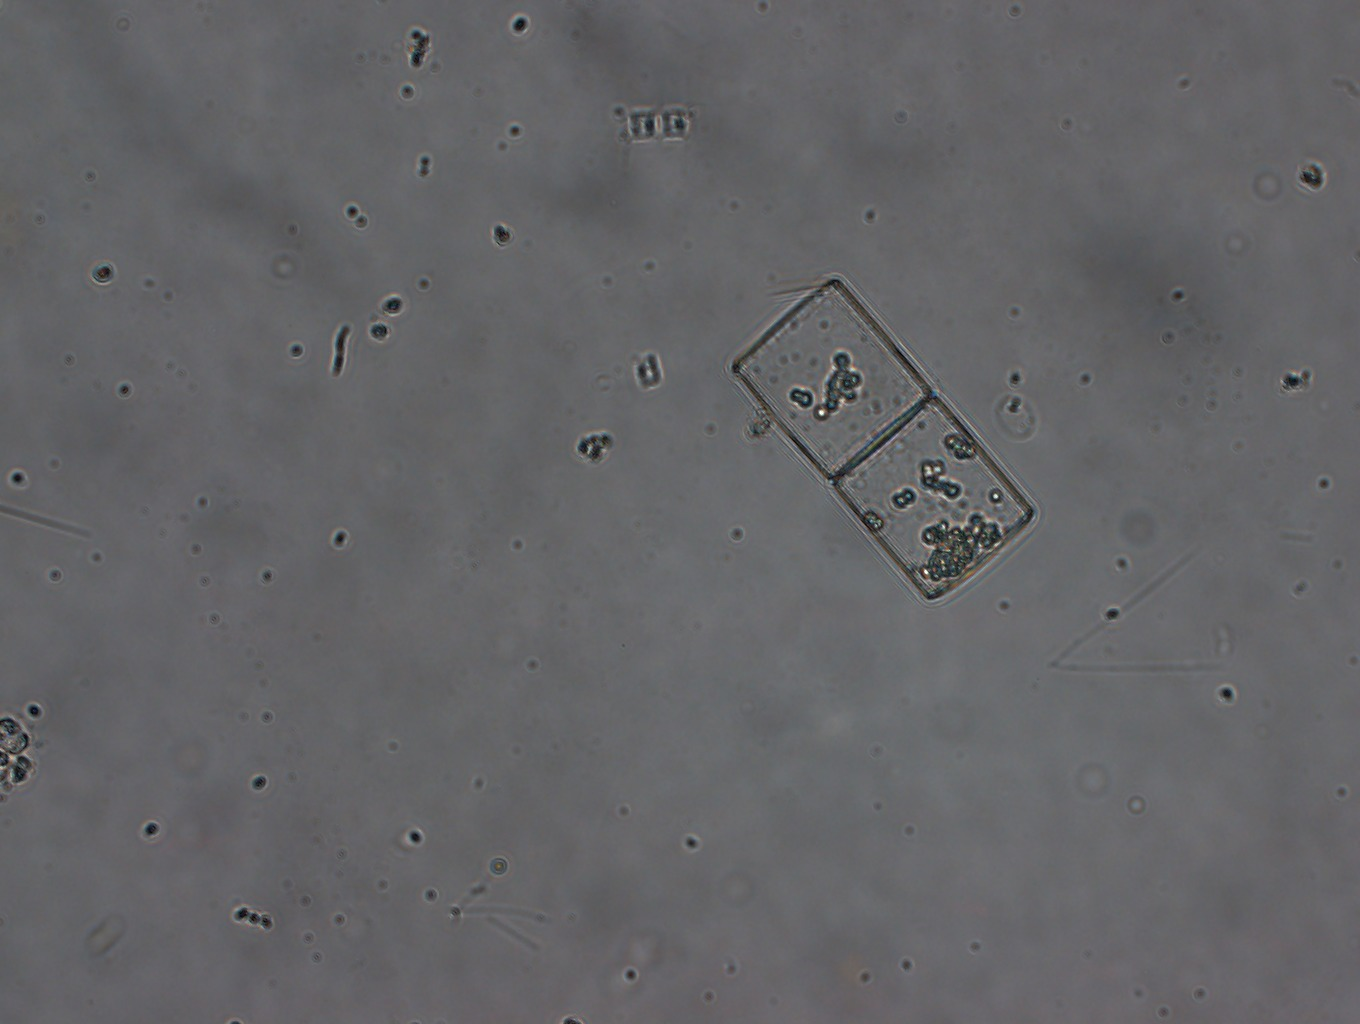guinardia flaccida: (729, 276, 1036, 600)
